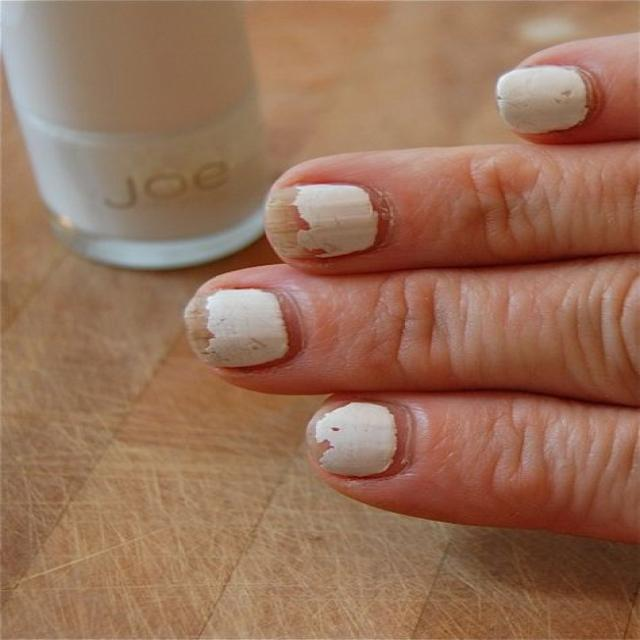Fingernail: (185, 287, 303, 370), (264, 183, 390, 260), (306, 401, 413, 479), (495, 65, 597, 134)
